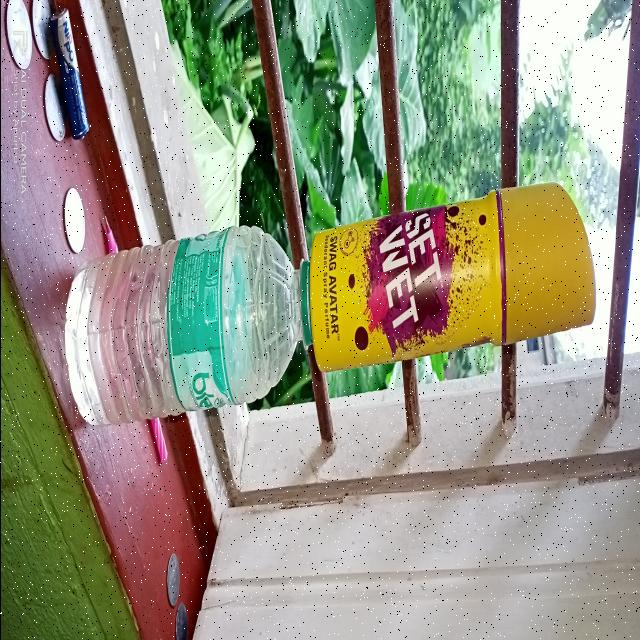plastic: (60, 214, 316, 444)
